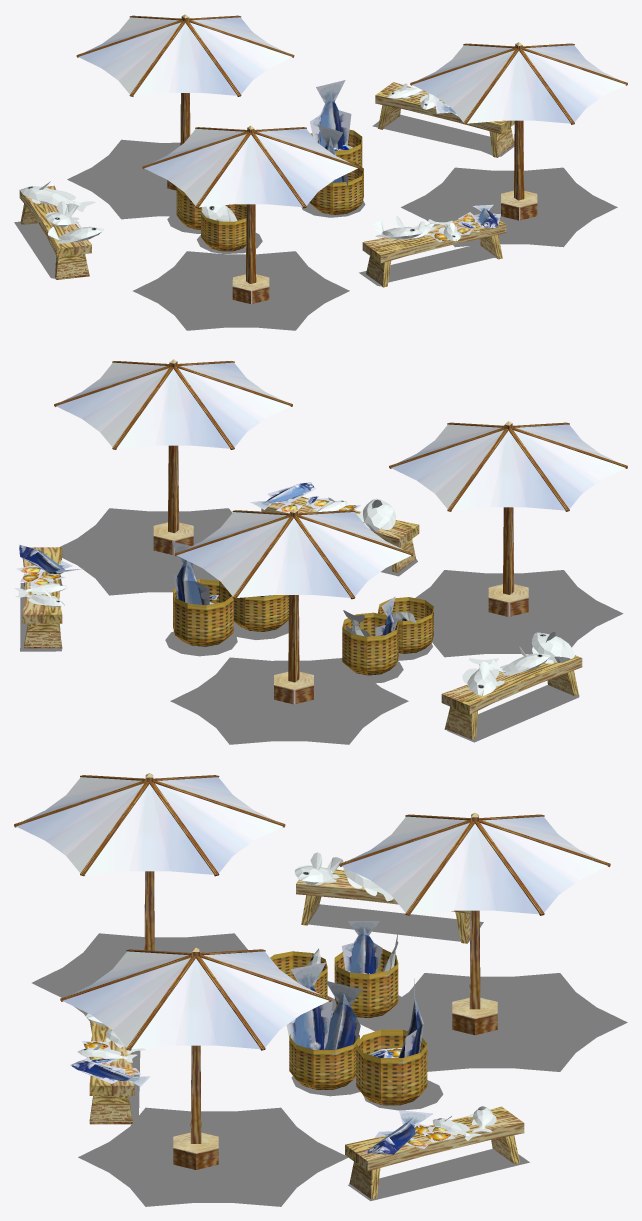
File: riccostreetstall_bake.dae
The picture shows the model from 3 angles, top to bottom: view 1: azimuth 30°, elevation 25°; view 2: azimuth 150°, elevation 25°; view 3: azimuth 270°, elevation 25°; orthographic projection. The views are drawn at different scales.
Visible parts, largest first — view 1: m0, m1, m0_VC; view 2: m0, m1, m0_VC; view 3: m0, m1, m0_VC.
Part boxes in pixels (left/top/right/bottom): m0: left=19, top=14, right=627, bottom=304; m1: left=14, top=114, right=617, bottom=330; m0_VC: left=310, top=80, right=500, bottom=241; m0: left=14, top=359, right=627, bottom=739; m1: left=20, top=508, right=623, bottom=744; m0_VC: left=16, top=482, right=398, bottom=635; m0: left=14, top=773, right=610, bottom=1199; m1: left=32, top=904, right=627, bottom=1206; m0_VC: left=70, top=921, right=455, bottom=1152.
Size of the model in its own units: 1596 by 524 by 1358.
Materials: 3 (3 with a texture image).
